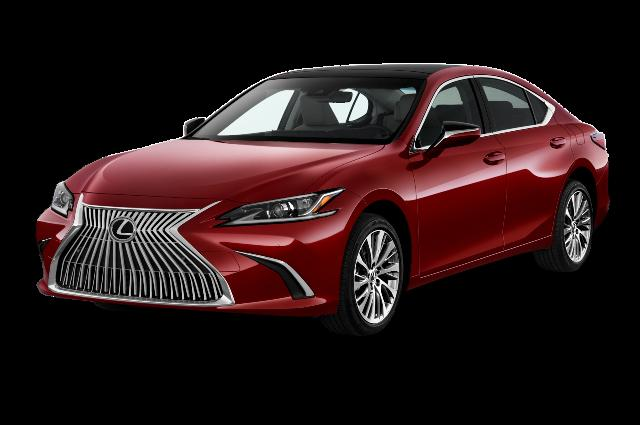lexus: (35, 64, 609, 336)
